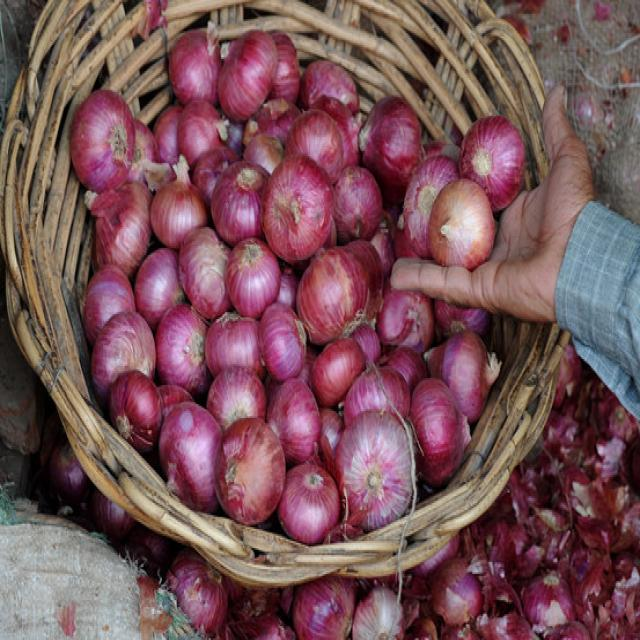onion: (332, 412, 413, 519), (258, 168, 338, 263), (216, 417, 290, 519), (155, 397, 224, 503), (291, 241, 367, 335), (67, 85, 136, 188), (459, 123, 532, 214), (354, 96, 422, 184), (428, 185, 496, 272), (220, 21, 278, 118), (281, 456, 338, 552), (222, 236, 284, 312), (165, 16, 220, 101), (152, 302, 205, 384), (147, 169, 206, 240), (261, 301, 312, 378), (84, 258, 135, 334), (207, 313, 264, 373)
